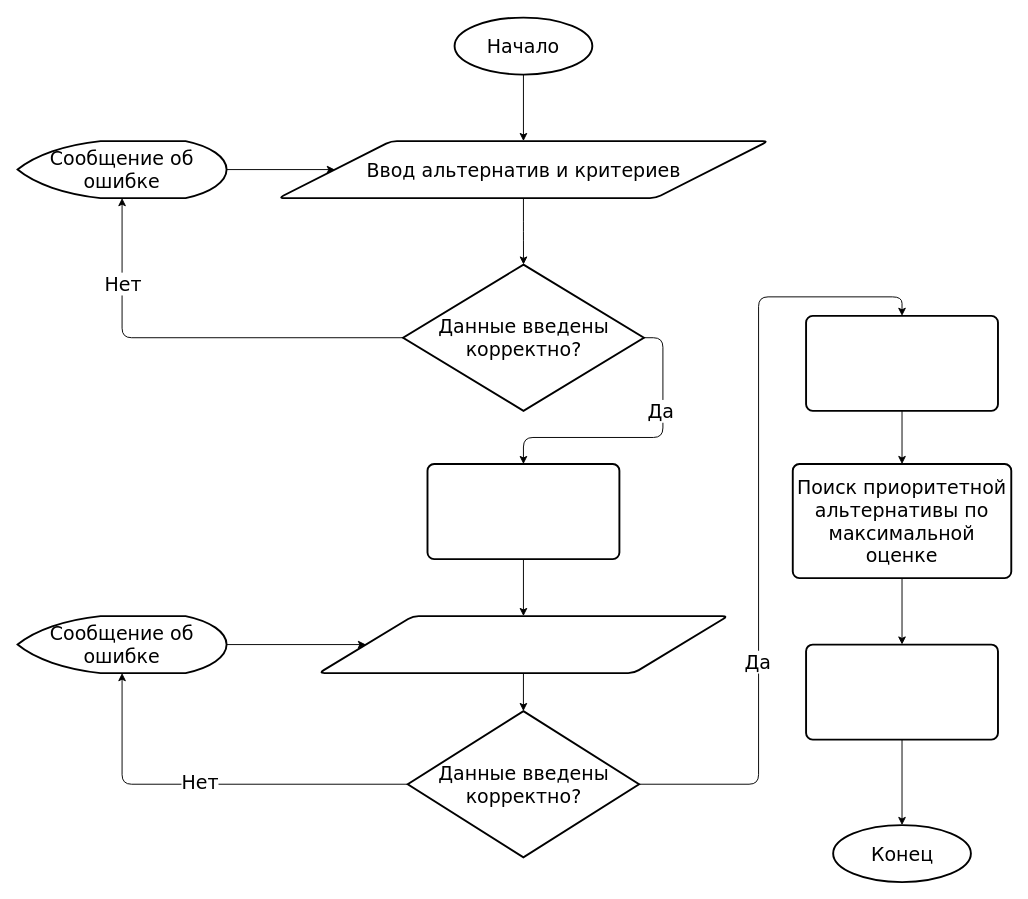
Some shapes in this 1028 by 899 pixel diagram are drawn without their labels. Each missing label, with the box of its shape:
Ввод оценок альтернатив и весов критериев: (317, 615, 728, 674)
Вывод результата: (805, 643, 998, 740)
Процесс аддитивной свёртки: (805, 314, 998, 411)
Формирование таблицы альтернатив и критериев: (426, 463, 620, 560)
